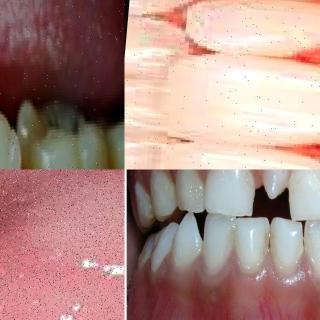Gum Swelling: (0, 169, 124, 320)
cavities: (24, 107, 97, 157)
maligned: (255, 169, 297, 207), (289, 169, 320, 215)
plaque: (174, 170, 203, 210), (149, 170, 170, 213), (135, 182, 156, 220), (133, 238, 153, 275)
stains: (255, 227, 279, 257)
